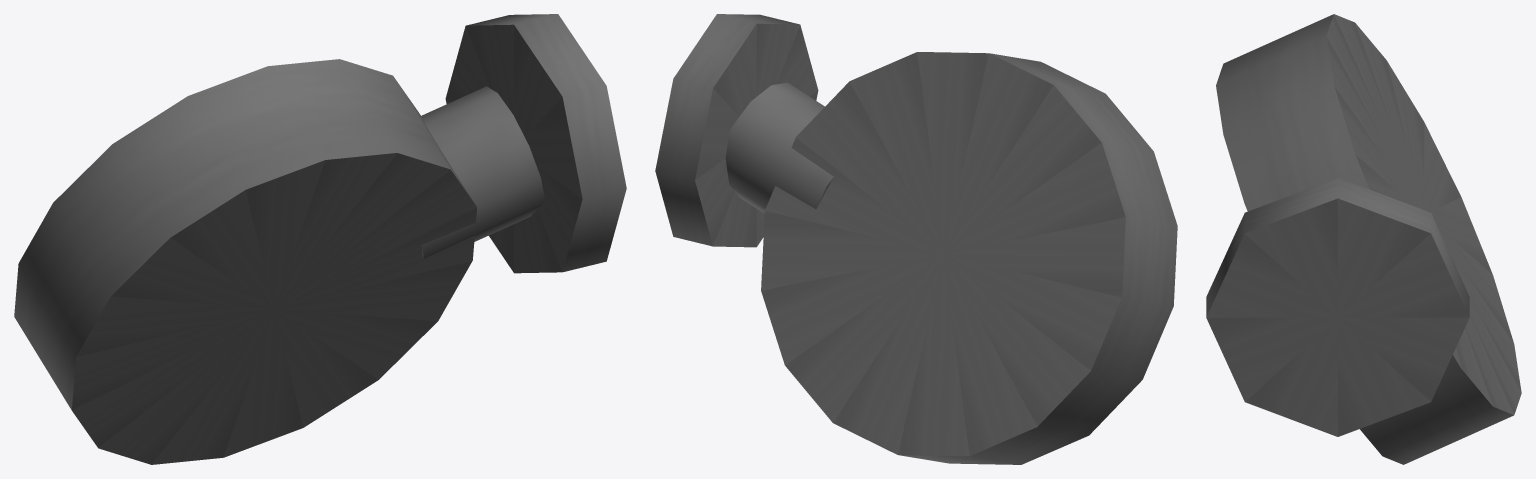
Rendered from mastarmcurve_6x2_c2_east.obj.
3 views of the same model, side by side, from view 1: azimuth 30°, elevation 25°; view 2: azimuth 150°, elevation 25°; view 3: azimuth 270°, elevation 25° (orthographic). The views are drawn at different scales.
Visible parts, largest first — view 1: mastarm_6x2_c2_east; view 2: mastarm_6x2_c2_east; view 3: mastarm_6x2_c2_east.
Part boxes in pixels (box(x1,y1,x2,y2)): mastarm_6x2_c2_east: box(14, 14, 626, 464); mastarm_6x2_c2_east: box(655, 14, 1177, 464); mastarm_6x2_c2_east: box(1206, 14, 1521, 464).
Bounding box in the file's own units: 0.8335 × 0.682 × 0.4791.
